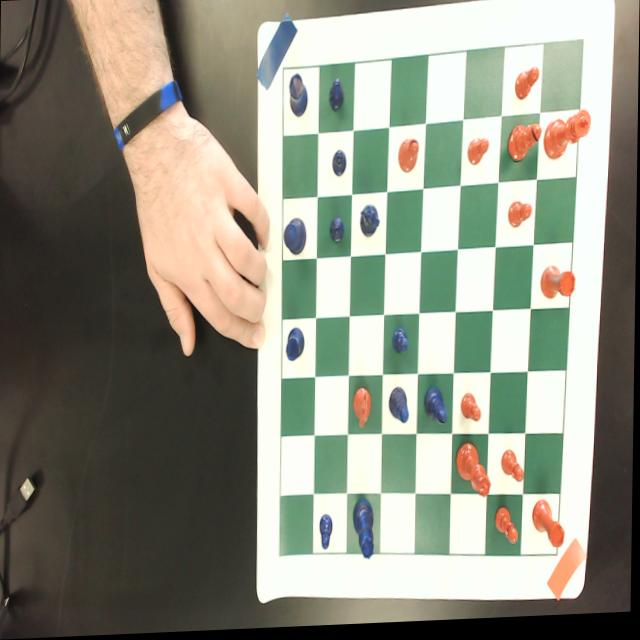B: (424, 388, 448, 429), (389, 389, 410, 427)
K: (283, 217, 307, 259)
N: (359, 206, 381, 244)
P: (318, 517, 334, 553), (328, 79, 344, 115), (331, 151, 347, 181), (392, 330, 408, 359), (330, 218, 344, 247)
Q: (353, 501, 377, 563)
R: (287, 76, 308, 120), (285, 328, 305, 365)
b: (506, 123, 541, 166), (398, 140, 419, 177)
k: (544, 112, 590, 166)
n: (352, 388, 372, 431)
p: (495, 508, 519, 550), (514, 69, 539, 106), (500, 452, 526, 487), (467, 140, 489, 172), (508, 204, 532, 233), (461, 396, 481, 427)
q: (455, 444, 492, 501)
r: (532, 502, 567, 554), (540, 269, 576, 306)
